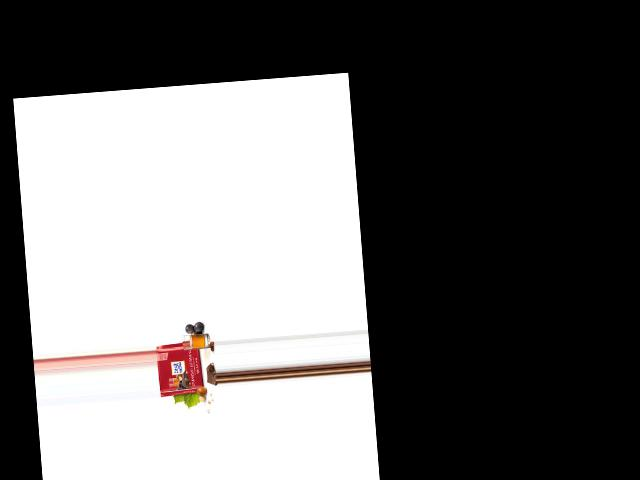chocolate: (156, 342, 204, 398)
